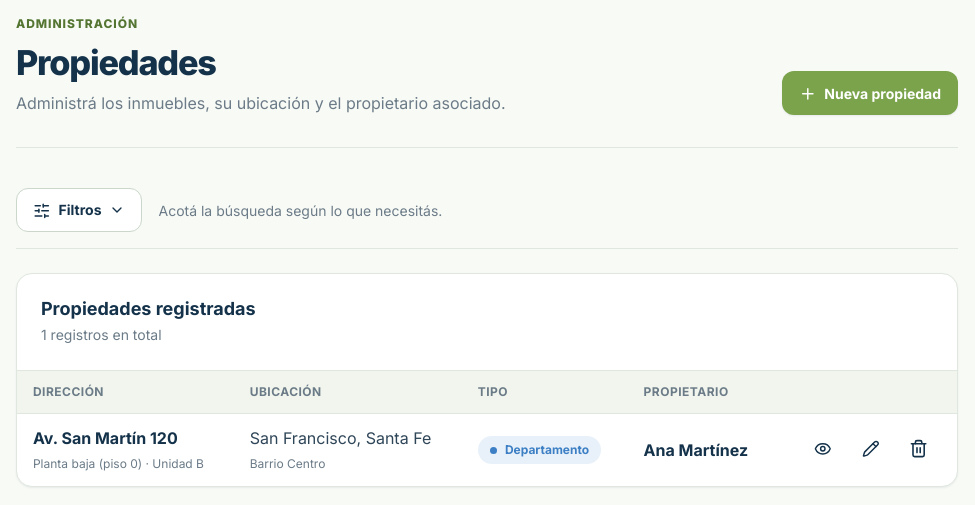
Test: listado de propiedades › evita solicitar la eliminación cuando existen reclamos históricos
Click the button named "Eliminar Av. San Martín 120" at {"x": 919, "y": 448}, box 897,426 -> 941,470
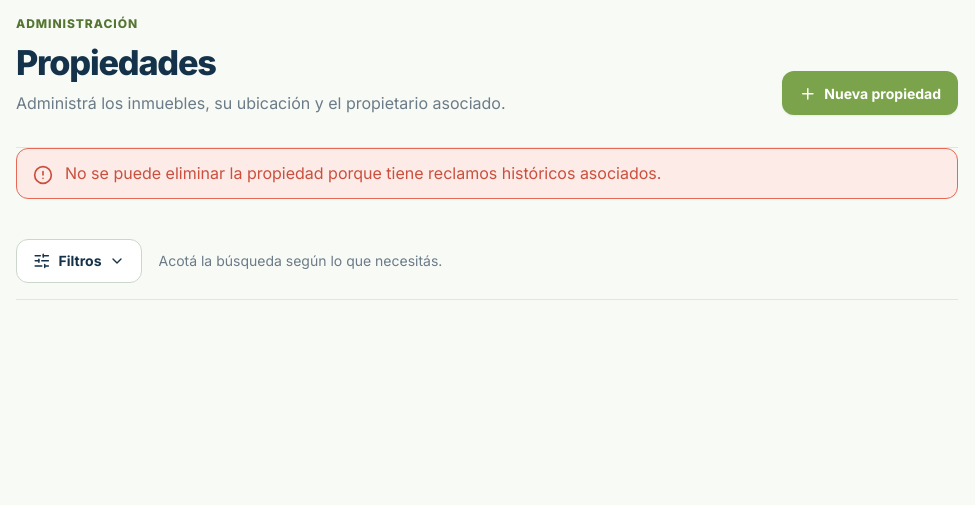
Expected: the text "tiene reclamos históricos asociados" is shown, 65,164 -> 661,184
